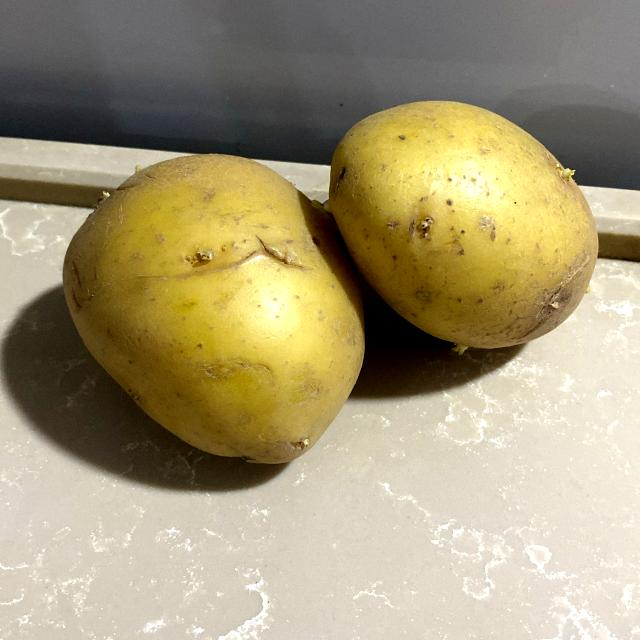potato: (58, 145, 379, 471), (326, 93, 605, 353)
